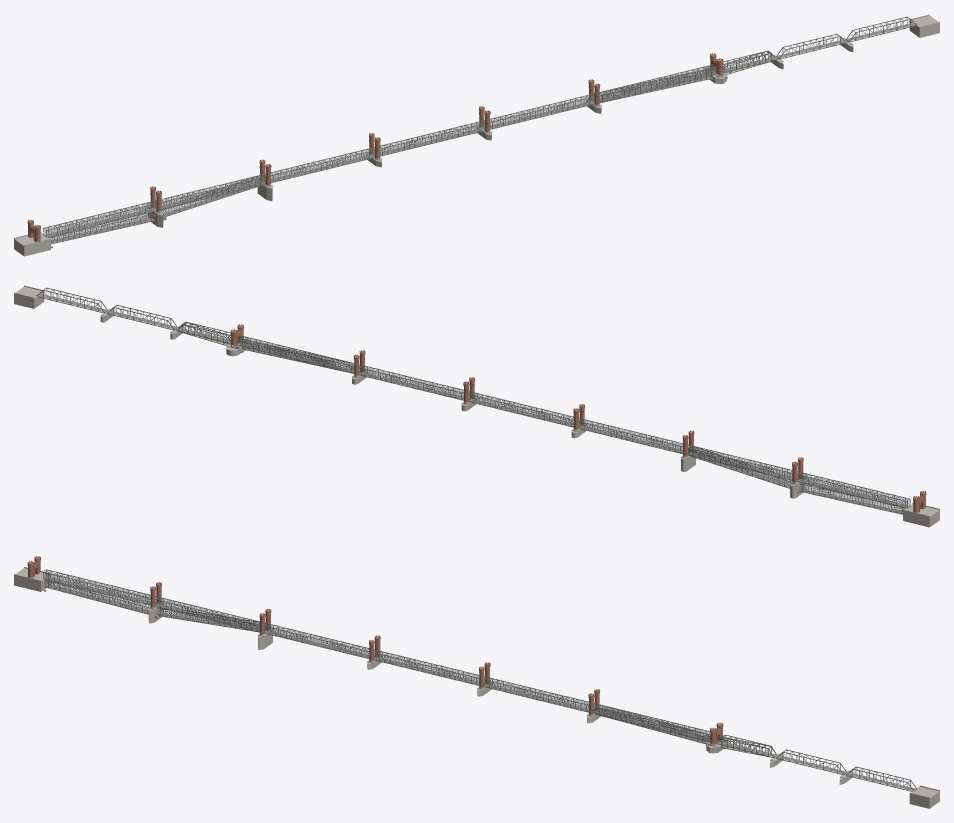
Rendered from bridge_road_lentze_1857_1912.glb.
3 views of the same model, one above another, from view 1: azimuth 30°, elevation 25°; view 2: azimuth 150°, elevation 25°; view 3: azimuth 330°, elevation 25° (orthographic).
Parts seen in each view (by area): view 1: road_span_01, road_span_06, road_span_05, road_span_04, road_span_02, road_span_03, road_span_06_collapsed, road_span_01_collapsed, road_span_02_collapsed, road_span_09, road_span_08, road_support_00 (+2 smaller); view 2: road_span_06, road_span_01, road_span_05, road_span_04, road_span_03, road_span_02, road_span_02_collapsed, road_span_06_collapsed, road_span_01_collapsed, road_span_09, road_span_08, road_support_00 (+1 smaller); view 3: road_span_01, road_span_04, road_span_03, road_span_05, road_span_02, road_span_06_collapsed, road_span_06, road_span_01_collapsed, road_span_02_collapsed, road_span_09, road_span_08, road_span_07 (+2 smaller).
Boxes of the visible parts, bbox=[...] form: road_span_01: bbox=[43, 201, 156, 237]; road_span_06: bbox=[593, 64, 715, 102]; road_span_05: bbox=[484, 94, 594, 129]; road_span_04: bbox=[374, 121, 484, 156]; road_span_02: bbox=[155, 174, 265, 209]; road_span_03: bbox=[264, 147, 374, 183]; road_span_06_collapsed: bbox=[593, 68, 716, 103]; road_span_01_collapsed: bbox=[48, 212, 154, 244]; road_span_02_collapsed: bbox=[161, 175, 265, 216]; road_span_09: bbox=[845, 16, 917, 42]; road_span_08: bbox=[776, 34, 847, 59]; road_support_00: bbox=[14, 231, 50, 256]; road_span_06: bbox=[238, 335, 360, 373]; road_span_01: bbox=[797, 472, 910, 508]; road_span_05: bbox=[359, 365, 469, 400]; road_span_04: bbox=[469, 392, 579, 427]; road_span_03: bbox=[579, 418, 689, 454]; road_span_02: bbox=[688, 445, 798, 480]; road_span_02_collapsed: bbox=[688, 445, 792, 488]; road_span_06_collapsed: bbox=[238, 339, 353, 373]; road_span_01_collapsed: bbox=[799, 483, 906, 514]; road_span_09: bbox=[36, 287, 108, 313]; road_span_08: bbox=[106, 305, 177, 330]; road_support_00: bbox=[903, 502, 939, 527]; road_span_01: bbox=[43, 569, 156, 605]; road_span_04: bbox=[374, 650, 485, 685]; road_span_03: bbox=[265, 623, 375, 658]; road_span_05: bbox=[484, 677, 594, 712]; road_span_02: bbox=[155, 597, 266, 632]; road_span_06_collapsed: bbox=[594, 704, 710, 743]; road_span_06: bbox=[594, 704, 710, 741]; road_span_01_collapsed: bbox=[44, 576, 149, 614]; road_span_02_collapsed: bbox=[157, 608, 265, 632]; road_span_09: bbox=[845, 766, 917, 791]; road_span_08: bbox=[776, 749, 847, 774]; road_span_07: bbox=[717, 734, 777, 757].
Size of the model in its own units: 1089 by 37.8 by 30.
